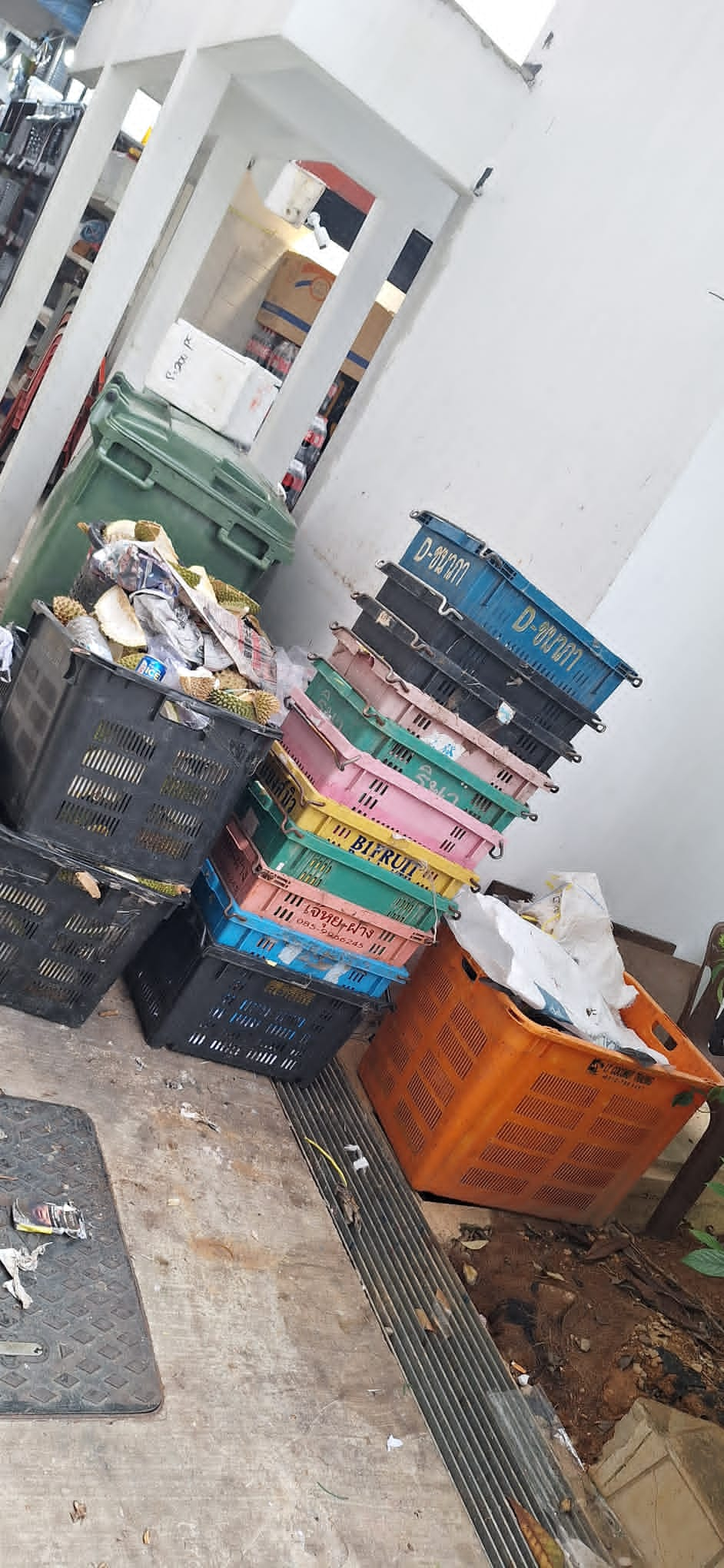bin_empty: (5, 374, 295, 621)
bulk_waste: (360, 927, 723, 1225), (126, 819, 431, 1082), (0, 601, 275, 883), (352, 511, 640, 766), (280, 628, 552, 870), (0, 822, 181, 1028), (238, 779, 452, 932)
